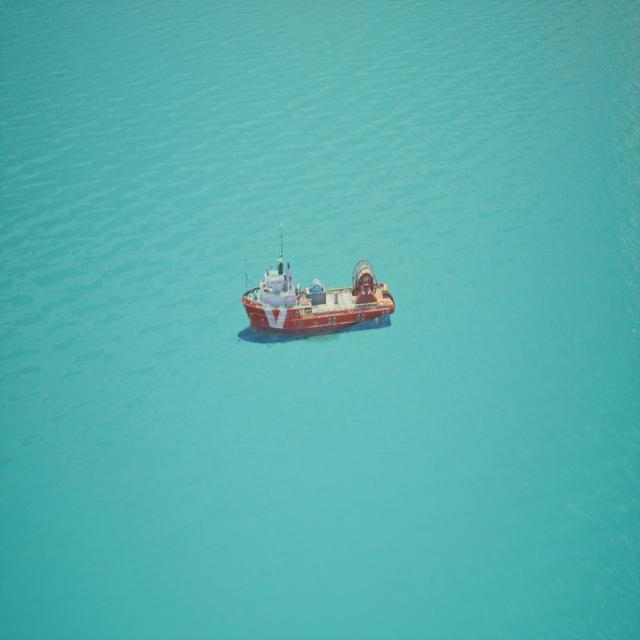tug boat: (238, 222, 396, 345)
